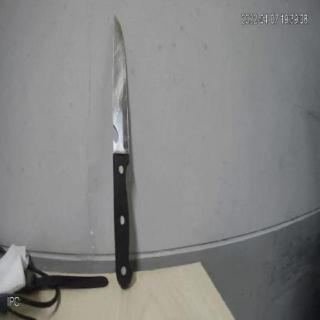knife: (105, 14, 149, 287)
